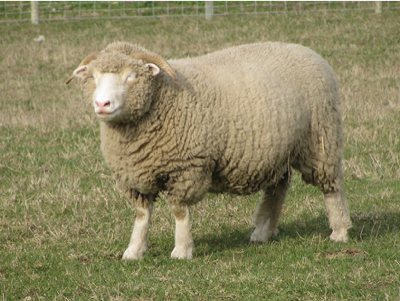koyun: (66, 35, 352, 258)
